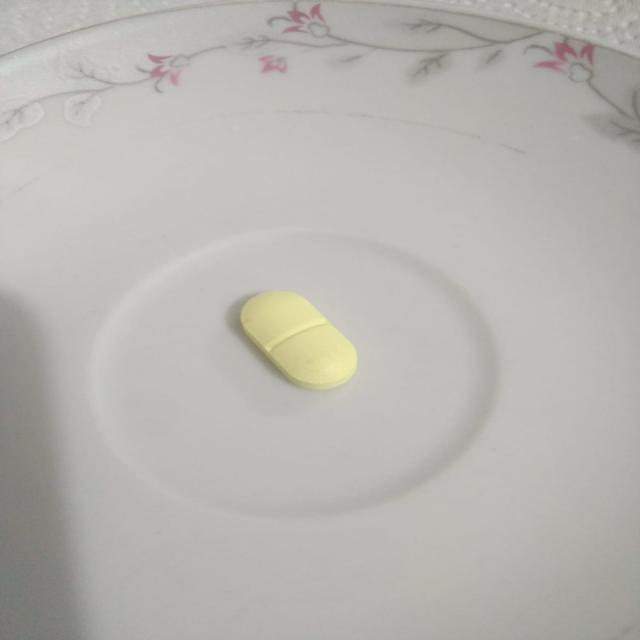pills: (224, 285, 372, 396)
